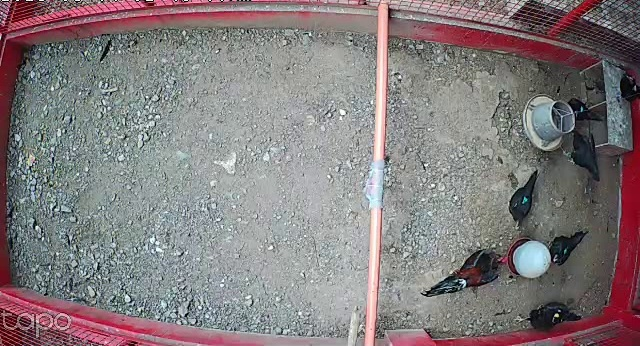Chicken: (560, 127, 606, 184), (504, 166, 543, 231), (510, 303, 584, 332), (545, 227, 591, 265), (566, 93, 605, 126), (615, 70, 640, 104)
Rooster: (420, 249, 510, 301)
Saddle_Color_Blue: (581, 106, 584, 112)
Saddle_Color_Yellow: (553, 311, 561, 323)
